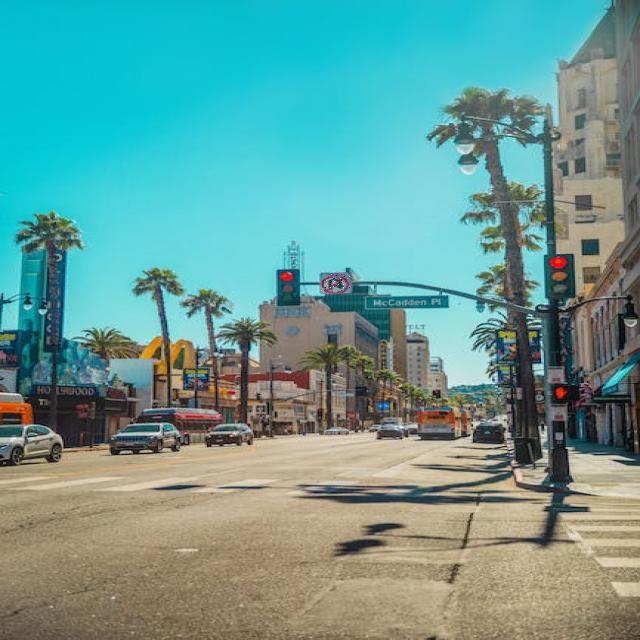no u turn: (321, 273, 351, 293)
